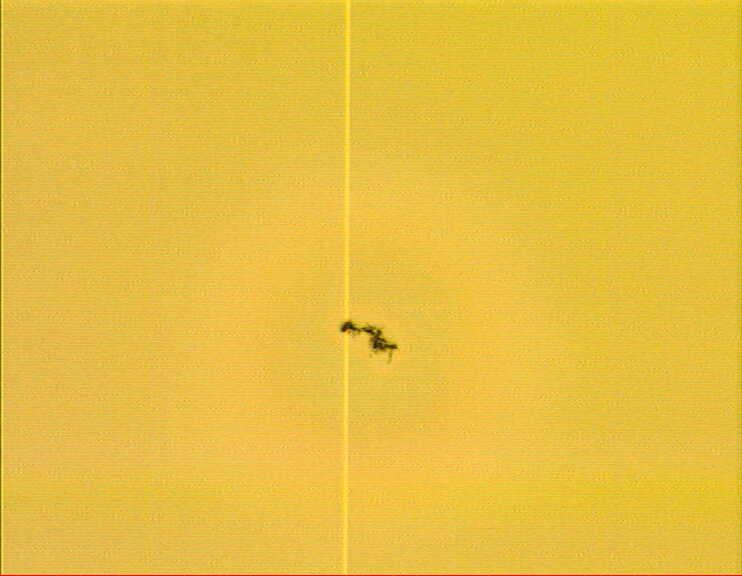PIQ PARTICLE: (338, 317, 401, 367)
